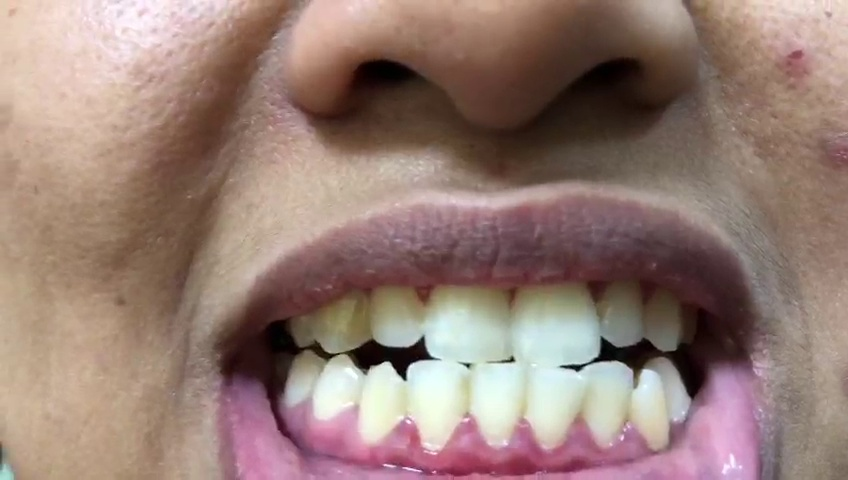1st Premolar: (313, 354, 361, 419), (651, 357, 693, 423)
2nd Premolar: (284, 345, 324, 409)
Canine: (358, 357, 410, 448), (316, 277, 368, 354), (633, 367, 673, 454), (649, 282, 681, 352)
Central Incisor: (512, 274, 601, 367), (425, 269, 513, 362), (527, 366, 584, 449), (471, 362, 522, 448)
Lateral Incisor: (409, 358, 470, 455), (581, 361, 633, 449), (369, 273, 426, 349), (599, 274, 648, 348)
